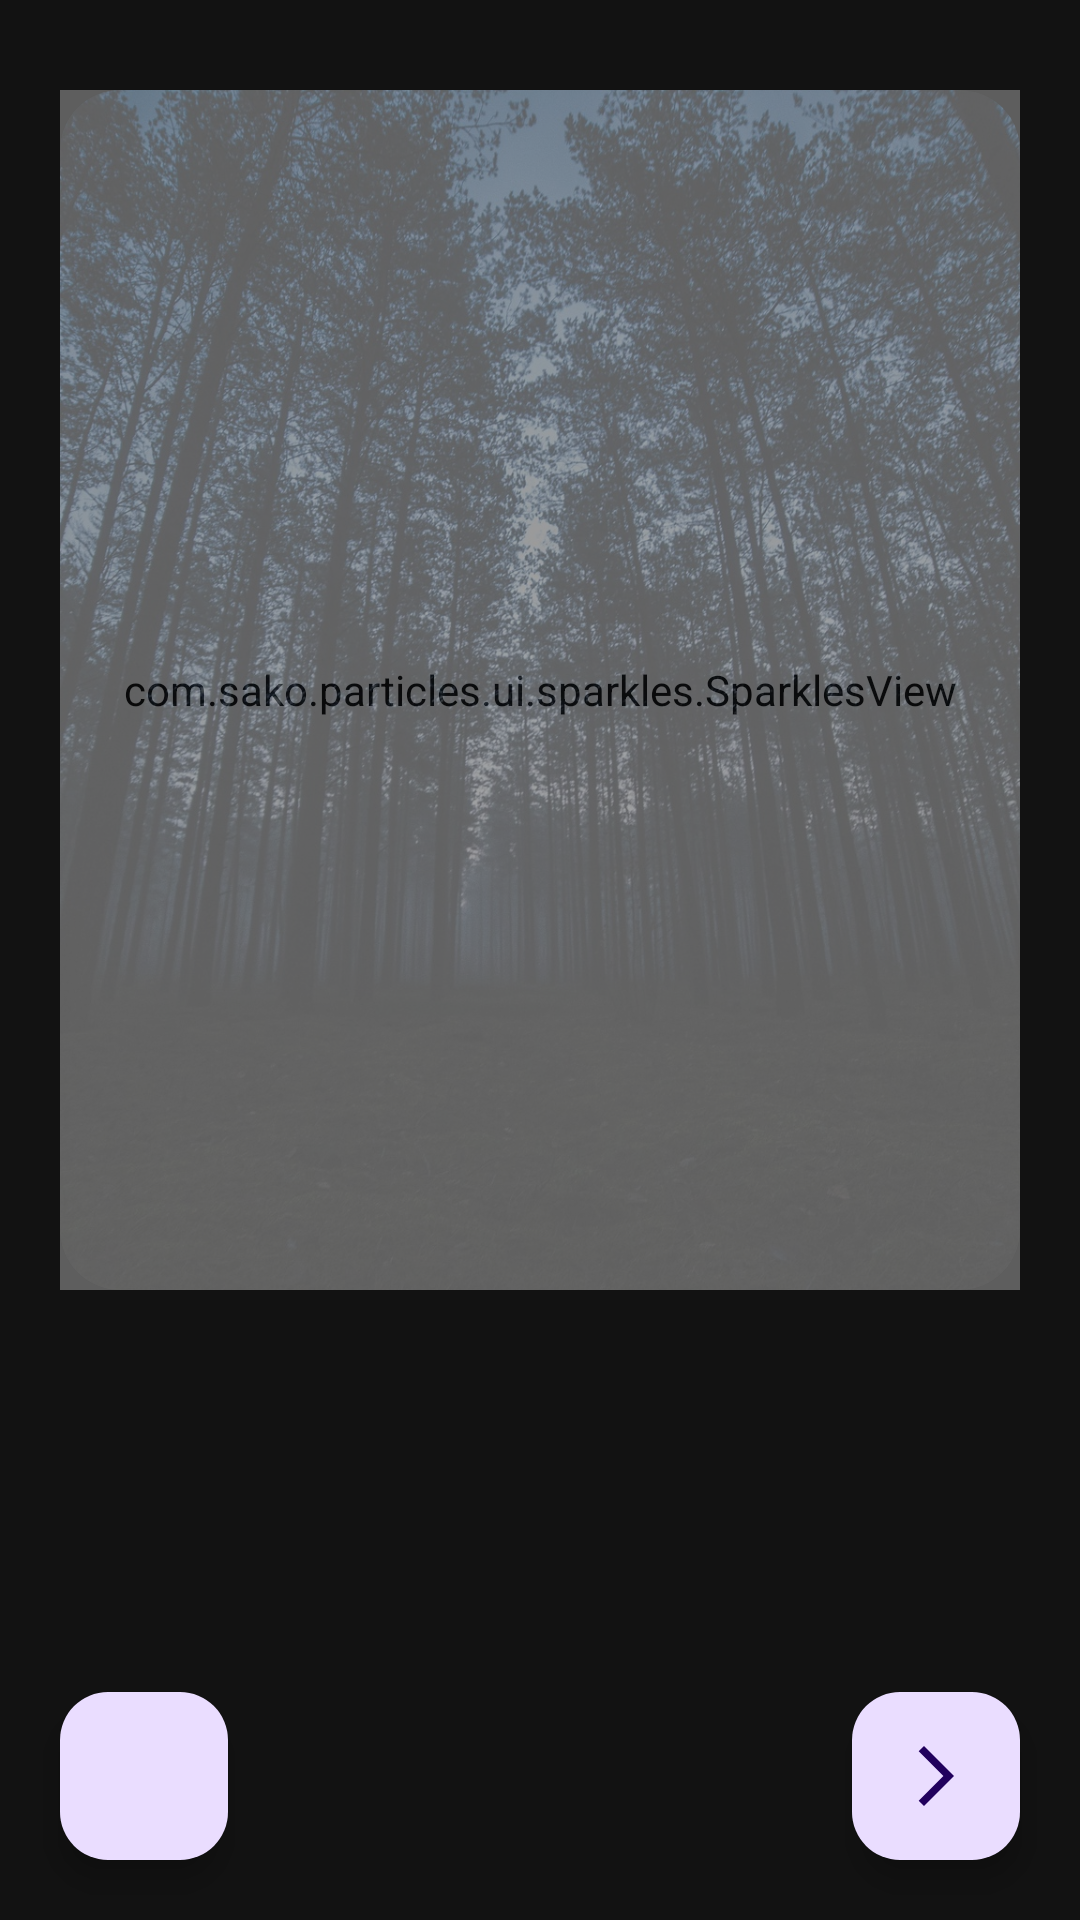

Named icons in this screenshot (1080 × 1920) and their bounding boxes, region(x1, y1, x2, y2):
Next page: region(852, 1692, 1020, 1860)
